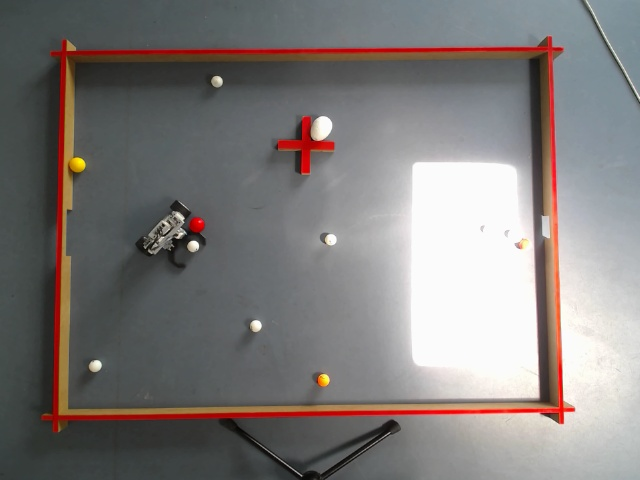big_goal: (56, 207, 72, 255)
cross: (276, 114, 334, 174)
egg: (311, 116, 332, 141)
orange: (316, 372, 330, 387)
robot: (135, 200, 204, 267)
small_goal: (542, 216, 558, 239)
wall: (57, 402, 561, 420), (52, 57, 76, 417), (540, 48, 562, 408), (64, 45, 544, 60)
white: (89, 359, 103, 374), (248, 318, 261, 332), (186, 239, 198, 252), (210, 75, 223, 87), (324, 234, 337, 245), (506, 228, 517, 240), (482, 224, 492, 234)
